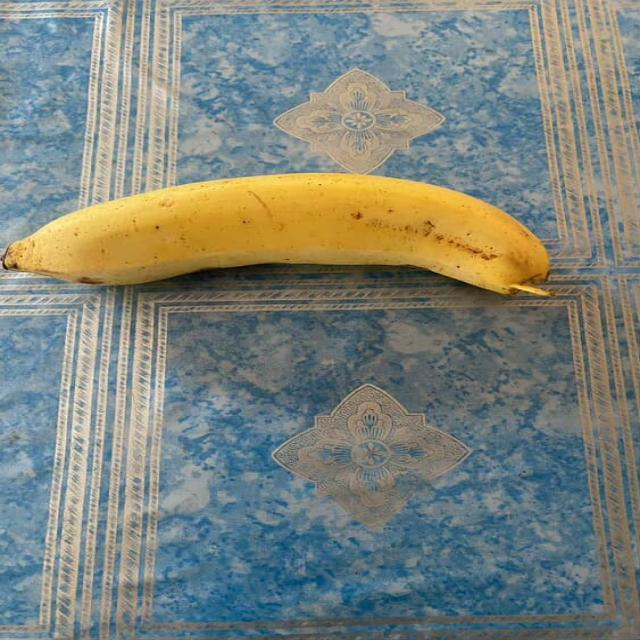Ripe: (4, 143, 574, 341)
